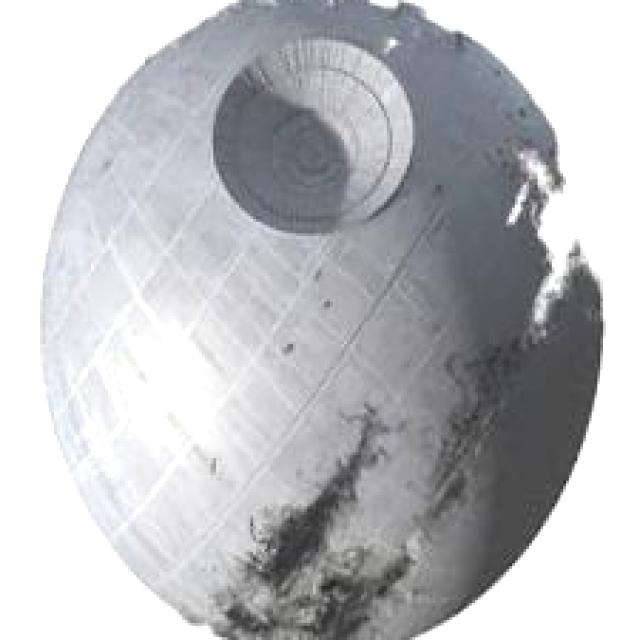deathstar: (36, 0, 610, 640)
